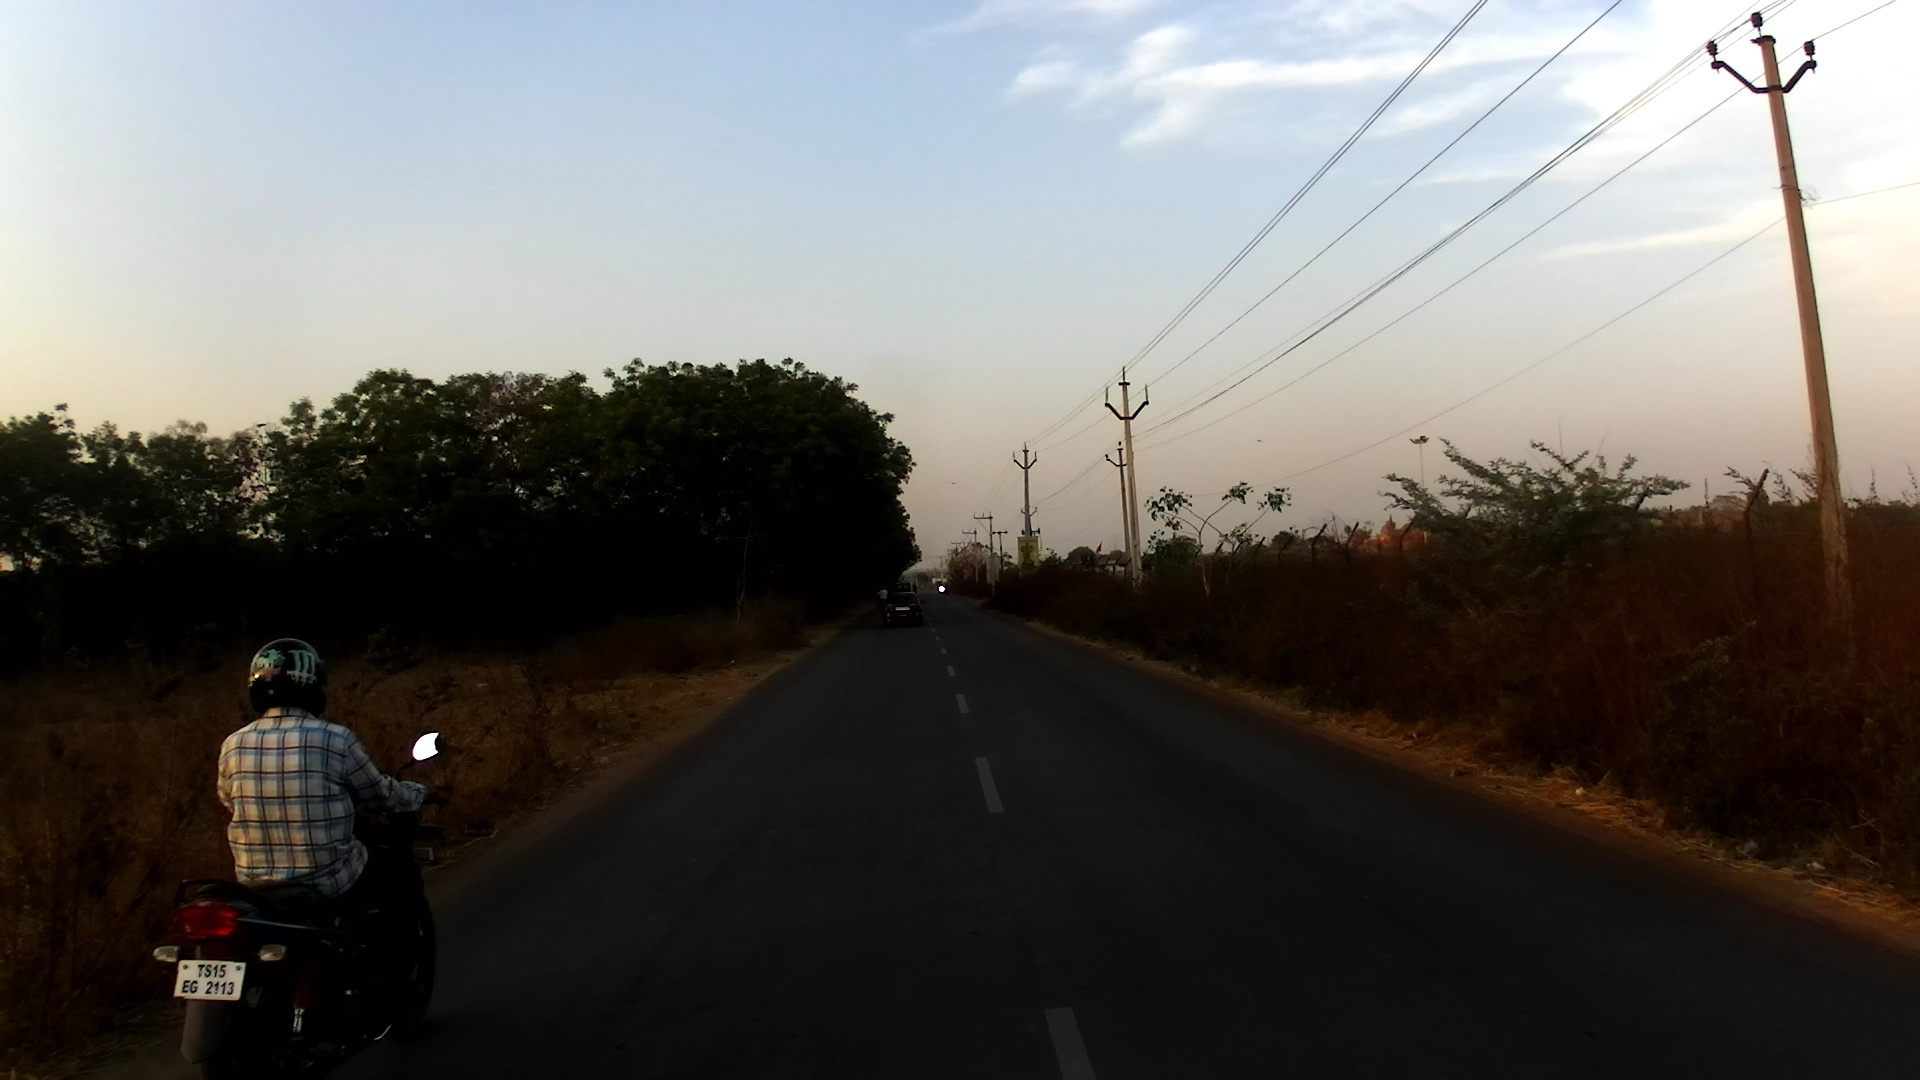autorickshaw: (891, 576, 914, 592)
car: (881, 590, 927, 629)
motorcycle: (153, 727, 451, 1080), (876, 593, 891, 611), (910, 586, 918, 593)
rider: (212, 633, 436, 1038), (878, 586, 890, 603), (912, 582, 920, 593)
vehicle fallback: (933, 581, 949, 593)
